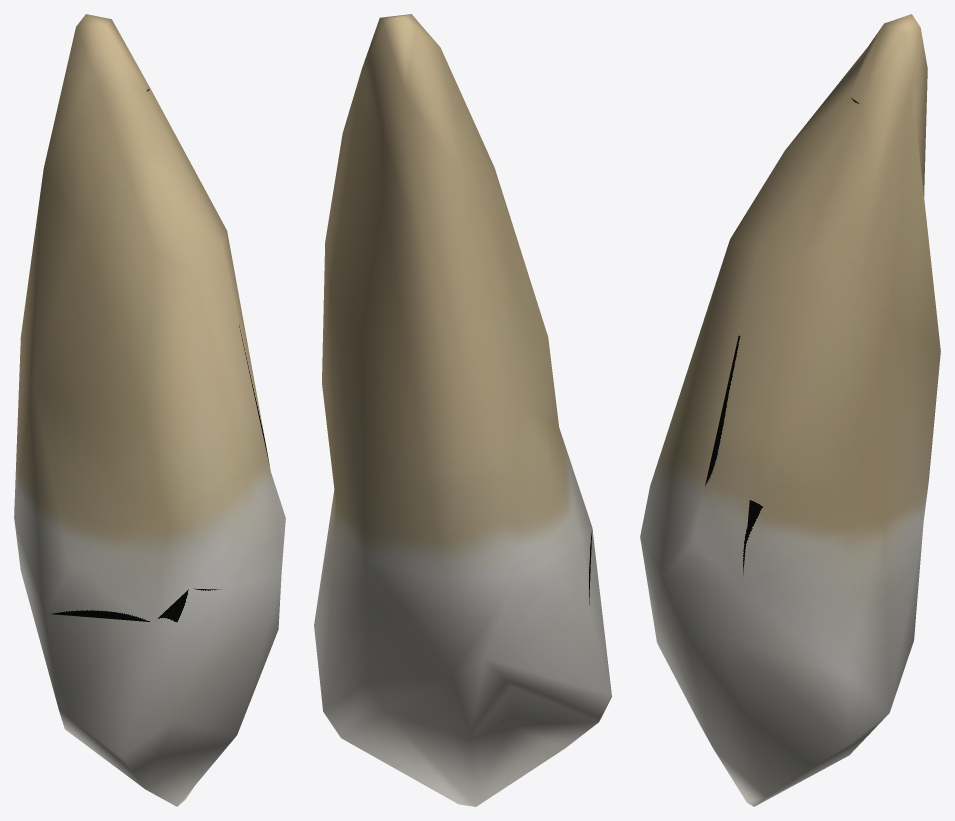
The picture shows the model from 3 angles, left to right: view 1: azimuth 30°, elevation 25°; view 2: azimuth 150°, elevation 25°; view 3: azimuth 270°, elevation 25°; orthographic projection. The views are drawn at different scales.
Visible parts, largest first — view 1: Object_2; view 2: Object_2; view 3: Object_2.
Boxes of the visible parts, box(x1,y1,x2,y2) form: Object_2: box(14, 14, 285, 806); Object_2: box(314, 14, 611, 806); Object_2: box(640, 14, 940, 806).
Size of the model in its own units: 0.2777 by 0.9065 by 0.3159.
Materials: 1 (1 with a texture image).
